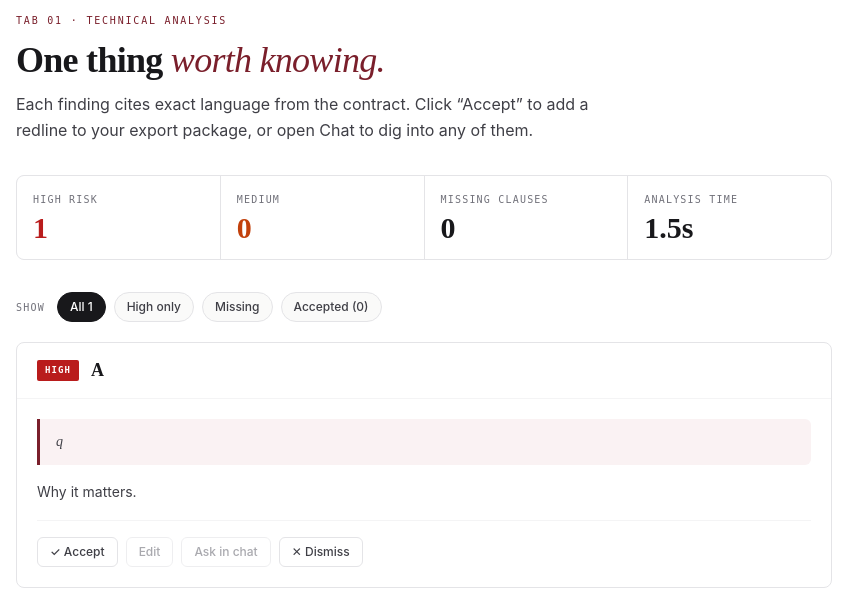
Test case: <Findings /> › accept toggles state: ✓ Accept → ✓ Accepted → ✓ Accept; data-state matches
Click the button with test id "finding-accept".
click(77, 552)  # box top-left (37, 537), bottom-right (118, 567)
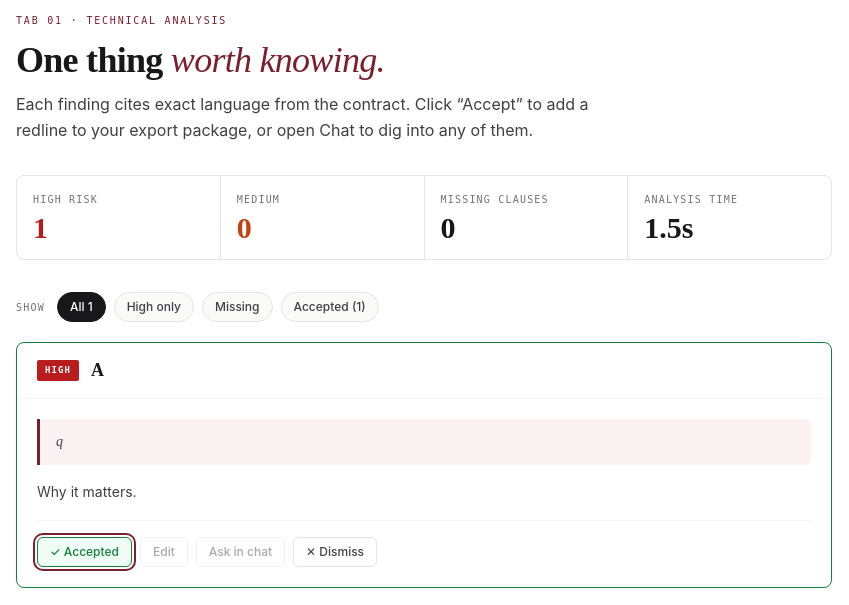
Expected: the button with test id "finding-accept" reads "✓ Accepted"
// Second click reverts.
Click the button with test id "finding-accept".
click(84, 552)  # box top-left (37, 537), bottom-right (132, 567)
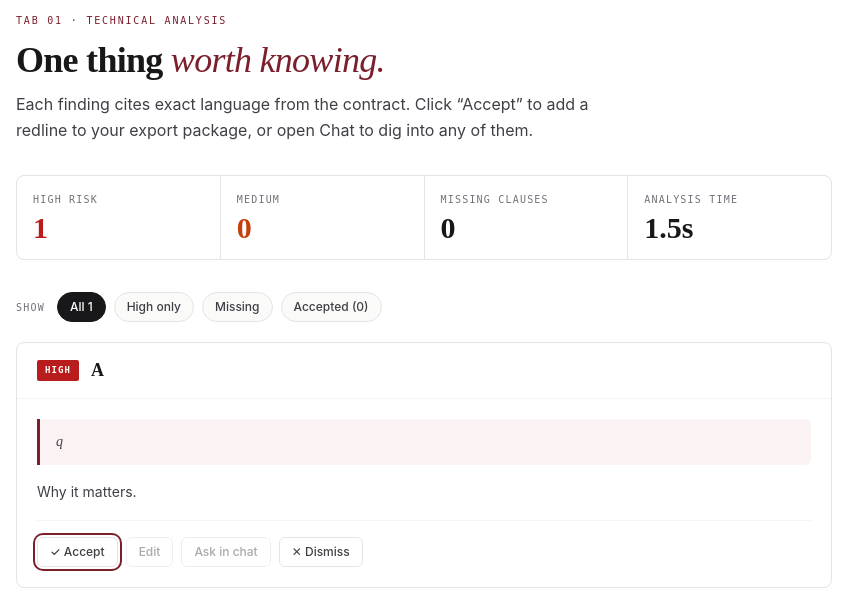
Expected: the button with test id "finding-accept" reads "✓ Accept", top-left (37, 537), bottom-right (118, 567)
